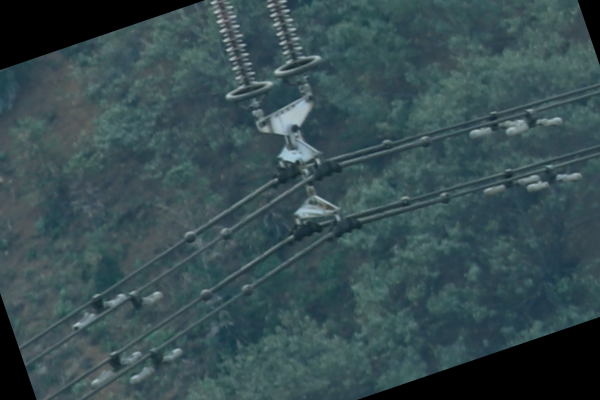damper: (127, 344, 185, 386), (69, 291, 126, 331), (88, 348, 143, 389), (525, 162, 585, 195), (480, 167, 540, 197), (505, 108, 566, 137), (467, 111, 523, 139)
damper_defect: (126, 285, 165, 317)
